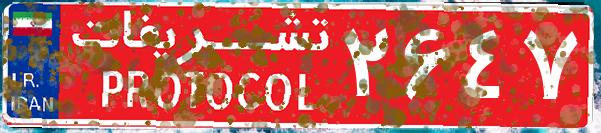2: (340, 20, 400, 115)
4: (460, 20, 520, 115)
6: (400, 20, 460, 115)
7: (520, 20, 580, 115)
تشریفات: (60, 8, 340, 125)
